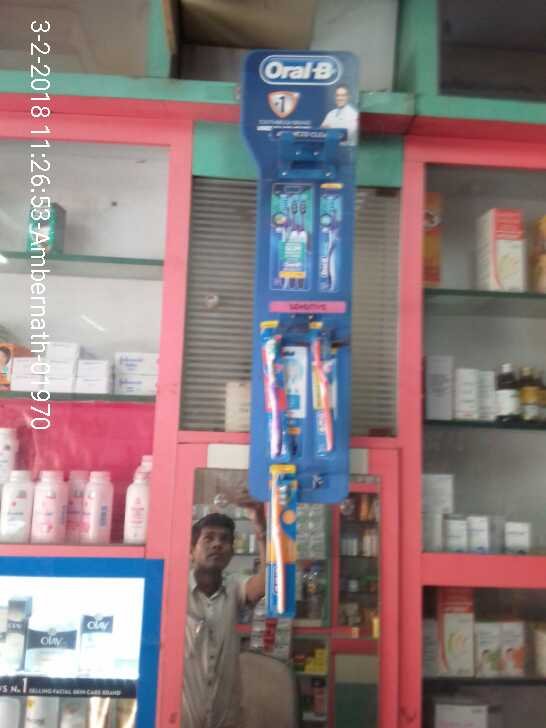oralb: (262, 460, 300, 621), (259, 317, 295, 463), (310, 317, 337, 459)
